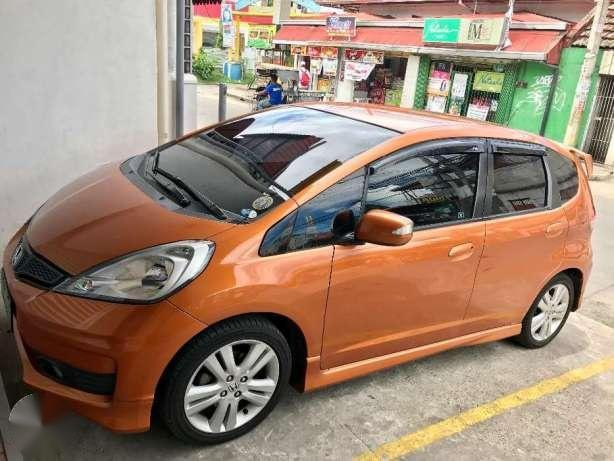Hatchback: (0, 95, 614, 440)
